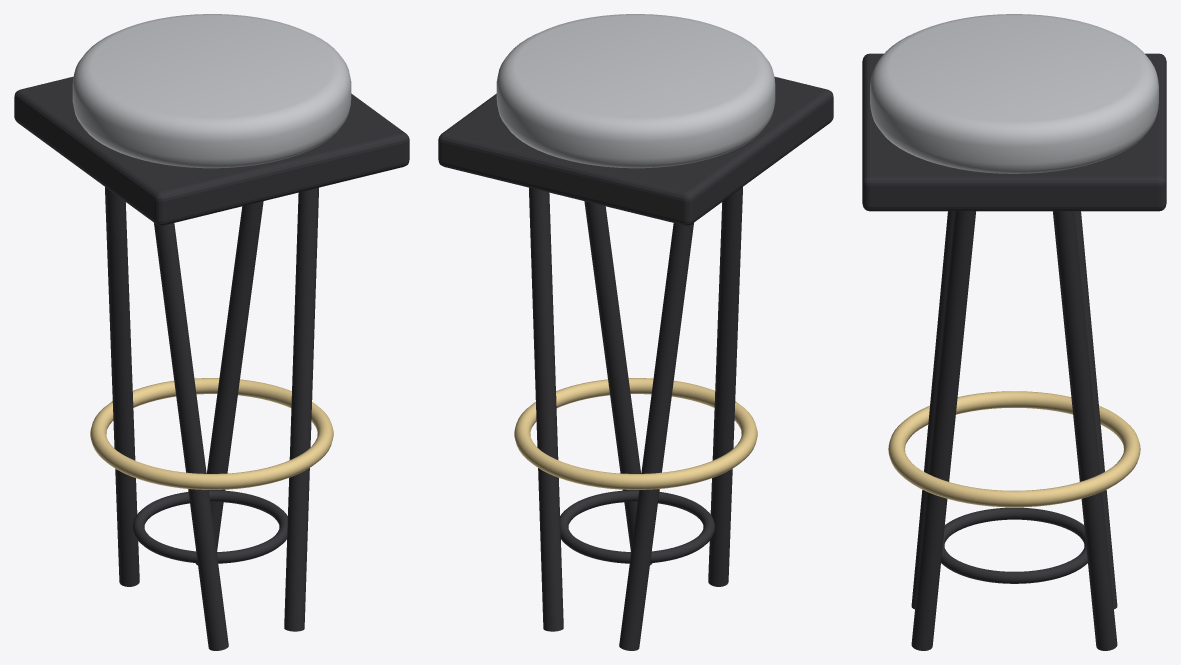
The model's file is modern_bar_stool.glb.
3 views of the same model, side by side, from view 1: azimuth 30°, elevation 25°; view 2: azimuth 150°, elevation 25°; view 3: azimuth 270°, elevation 25° (orthographic). The views are drawn at different scales.
Visible parts, largest first — view 1: seat, seat_frame, leg.003, leg.002, leg.001, footrest, leg, stretcher; view 2: seat, seat_frame, leg, leg.001, leg.002, footrest, leg.003, stretcher; view 3: seat, seat_frame, leg, leg.003, footrest, stretcher, leg.001, leg.002.
Part boxes in pixels (left/top/right/bottom): seat: left=72, top=14, right=351, bottom=168; seat_frame: left=14, top=76, right=409, bottom=225; leg.003: left=284, top=187, right=318, bottom=631; leg.002: left=154, top=223, right=228, bottom=650; leg.001: left=105, top=187, right=139, bottom=586; footrest: left=90, top=378, right=333, bottom=489; leg: left=195, top=201, right=263, bottom=565; stretcher: left=133, top=490, right=287, bottom=563; seat: left=496, top=14, right=775, bottom=168; seat_frame: left=438, top=76, right=833, bottom=225; leg: left=529, top=187, right=563, bottom=631; leg.001: left=619, top=223, right=693, bottom=650; leg.002: left=708, top=187, right=742, bottom=586; footrest: left=514, top=378, right=757, bottom=489; leg.003: left=584, top=201, right=652, bottom=565; stretcher: left=560, top=490, right=714, bottom=563; seat: left=870, top=14, right=1158, bottom=173; seat_frame: left=862, top=53, right=1166, bottom=211; leg: left=1053, top=211, right=1117, bottom=650; leg.003: left=911, top=211, right=975, bottom=650; footrest: left=888, top=391, right=1140, bottom=507; stretcher: left=941, top=507, right=1087, bottom=583; leg.001: left=1074, top=211, right=1117, bottom=609; leg.002: left=911, top=211, right=954, bottom=609.
Size of the model in its own units: 0.4 by 0.8115 by 0.4.
